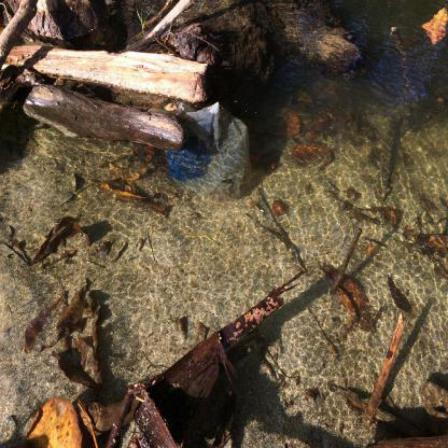Plastic bag - wrapper: (166, 102, 255, 201)
